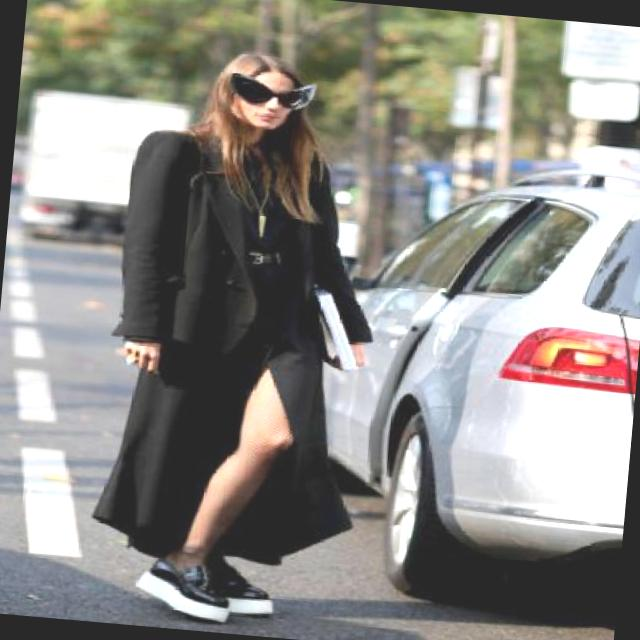Person: (45, 18, 441, 640)
